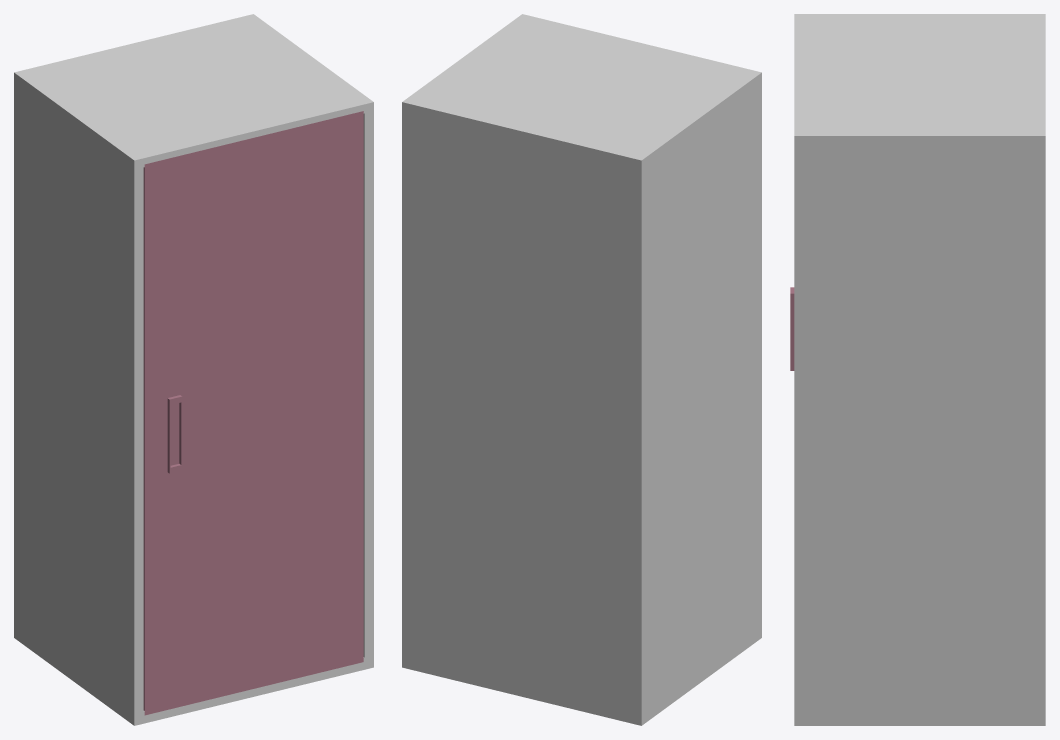
File: Loker.fbx
3 views of the same model, side by side, from view 1: azimuth 30°, elevation 25°; view 2: azimuth 150°, elevation 25°; view 3: azimuth 270°, elevation 25° (orthographic). The views are drawn at different scales.
Visible parts, largest first — view 1: Cube.004; view 2: Cube.004; view 3: Cube.004.
Boxes of the visible parts, left/top/right/bottom form: Cube.004: left=14, top=14, right=373, bottom=725; Cube.004: left=402, top=14, right=761, bottom=725; Cube.004: left=790, top=14, right=1045, bottom=725.
Bounding box in the file's own units: 88.68 × 200 × 78.45.
